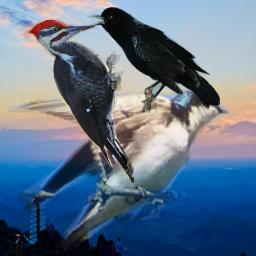Crow: (87, 7, 220, 113)
Swallow: (7, 86, 229, 256)
Woodpecker: (27, 18, 134, 183)
